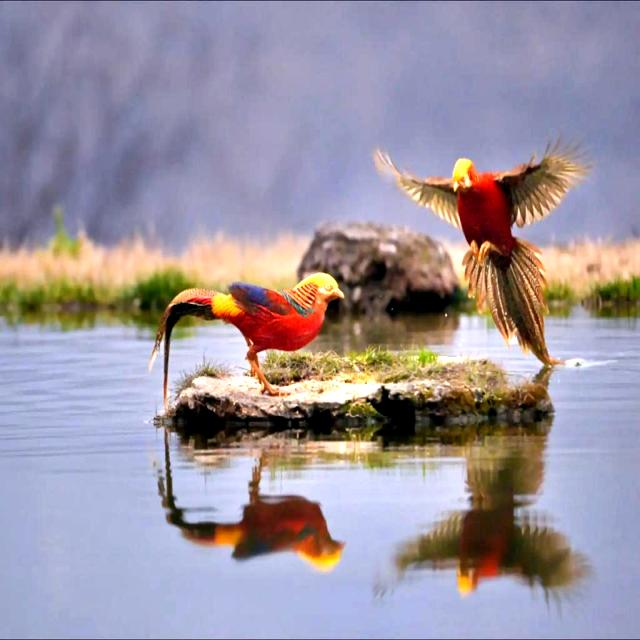Chrysolophus pictus feather: (462, 238, 565, 383), (149, 288, 221, 411)
